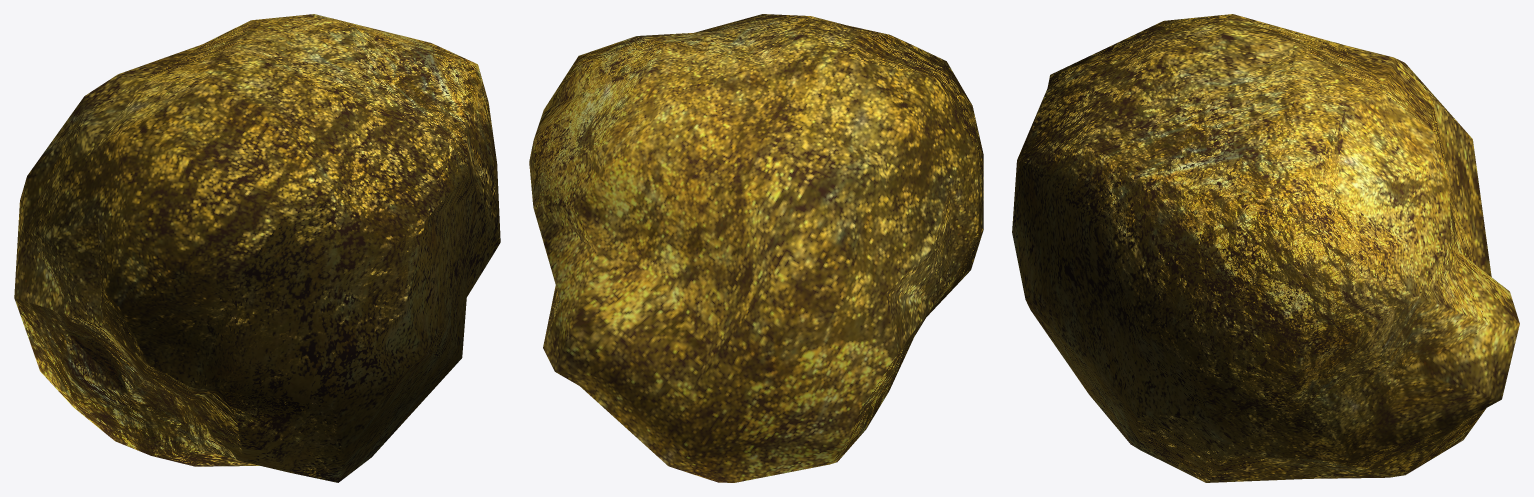
The model's file is goldOre.fbx.
3 renders of one model, left to right at view 1: azimuth 30°, elevation 25°; view 2: azimuth 150°, elevation 25°; view 3: azimuth 270°, elevation 25°, orthographic. The views are drawn at different scales.
Visible parts, largest first — view 1: GoldNugget3; view 2: GoldNugget3; view 3: GoldNugget3.
Part boxes in pixels (x1,y1,x2,y2): GoldNugget3: (14,14,500,482); GoldNugget3: (529,14,983,482); GoldNugget3: (1012,14,1519,482).
Bounding box in the file's own units: 2.1 × 2.17 × 2.01.
1 material, 1 textured.
